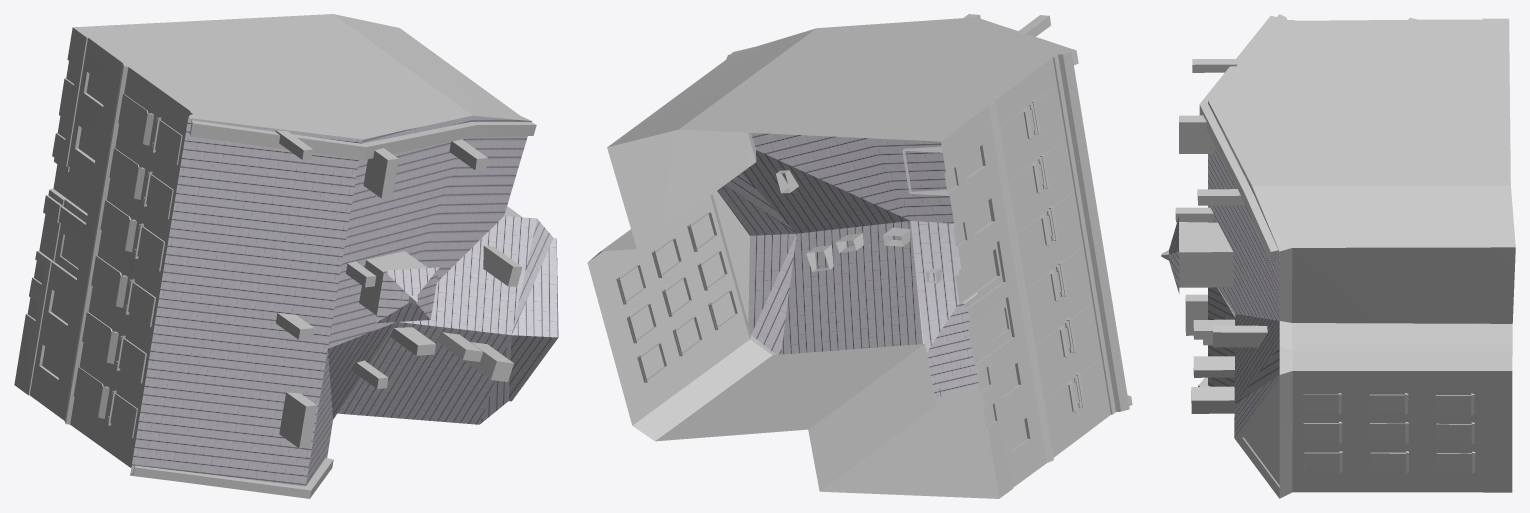
File: Pikk_64_1.obj
3 views of the same model, side by side, from view 1: azimuth 30°, elevation 25°; view 2: azimuth 150°, elevation 25°; view 3: azimuth 270°, elevation 25° (orthographic). The views are drawn at different scales.
Parts seen in each view (by area): view 1: Pikk_64_1; view 2: Pikk_64_1; view 3: Pikk_64_1.
Boxes of the visible parts, box(x1,y1,x2,y2) form: Pikk_64_1: box(14, 14, 558, 498); Pikk_64_1: box(587, 14, 1132, 498); Pikk_64_1: box(1161, 14, 1515, 498).
Size of the model in its own units: 25.32 by 21.66 by 19.55.
